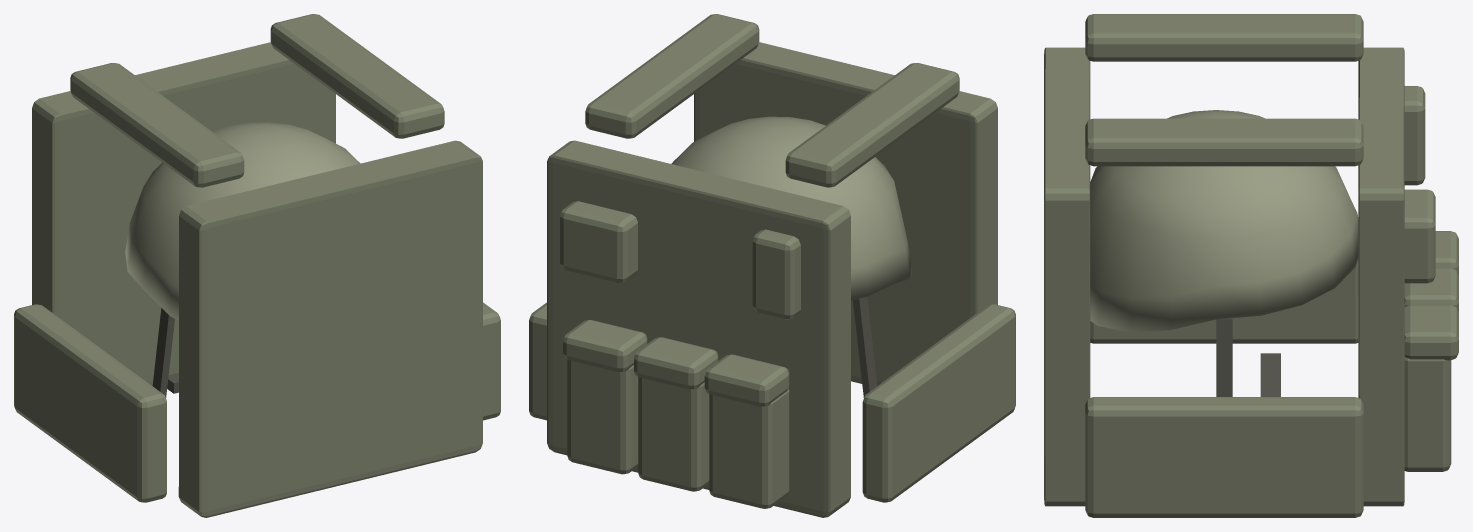
The model's file is soldier_gear.glb.
The picture shows the model from 3 angles, left to right: view 1: azimuth 30°, elevation 25°; view 2: azimuth 150°, elevation 25°; view 3: azimuth 270°, elevation 25°; orthographic projection. The views are drawn at different scales.
Visible parts, largest first — view 1: Vest, Helmet, ChinStrap; view 2: Vest, Helmet, ChinStrap; view 3: Vest, Helmet, ChinStrap.
Part boxes in pixels (x1=…): Vest: x1=14, y1=14, x2=500, y2=517; Helmet: x1=125, y1=122, x2=360, y2=320; ChinStrap: x1=152, y1=308, x2=178, y2=397; Vest: x1=529, y1=14, x2=1015, y2=517; Helmet: x1=671, y1=116, x2=912, y2=300; ChinStrap: x1=853, y1=297, x2=877, y2=397; Vest: x1=1044, y1=14, x2=1458, y2=517; Helmet: x1=1090, y1=110, x2=1358, y2=332; ChinStrap: x1=1216, y1=318, x2=1280, y2=396.
Bounding box in the file's own units: 0.435 × 0.385 × 0.4025.
